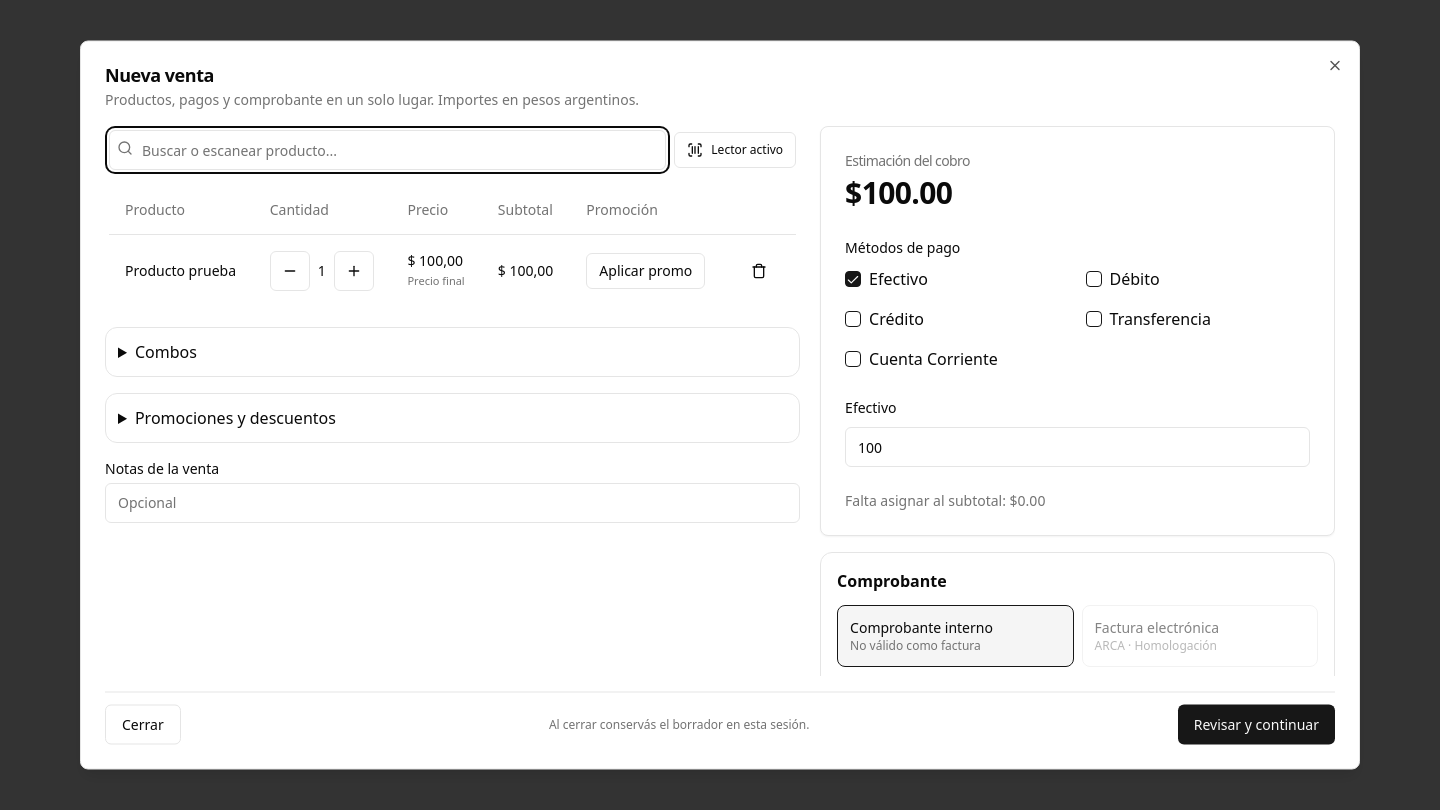
Test: updates a changed server price and rebalances the only payment before review
Click the button "Revisar y continuar" at (1256, 724), box [1178, 704, 1335, 744]
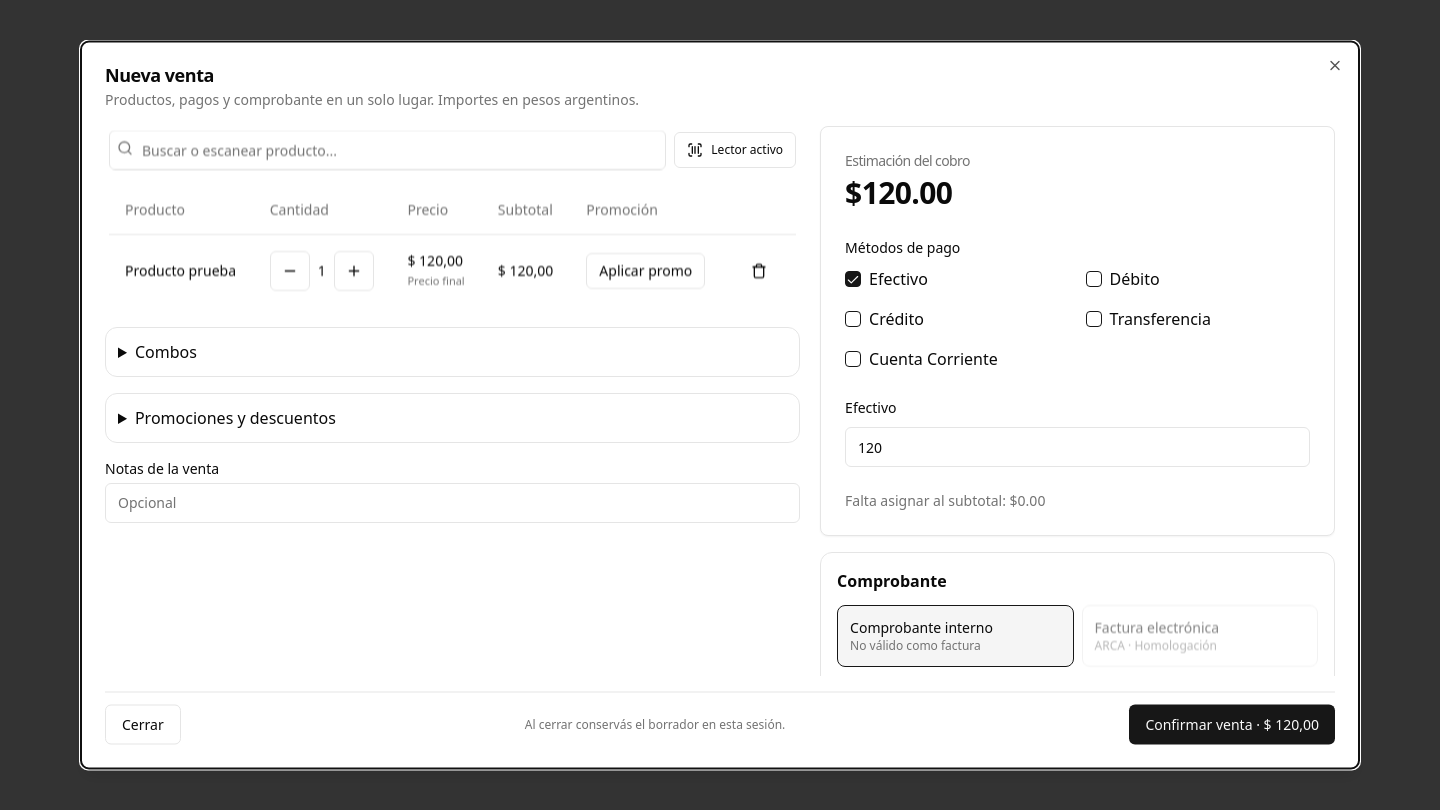
Expected: the button "Confirmar venta · $ 120,00" is shown, [1129, 704, 1335, 744]
